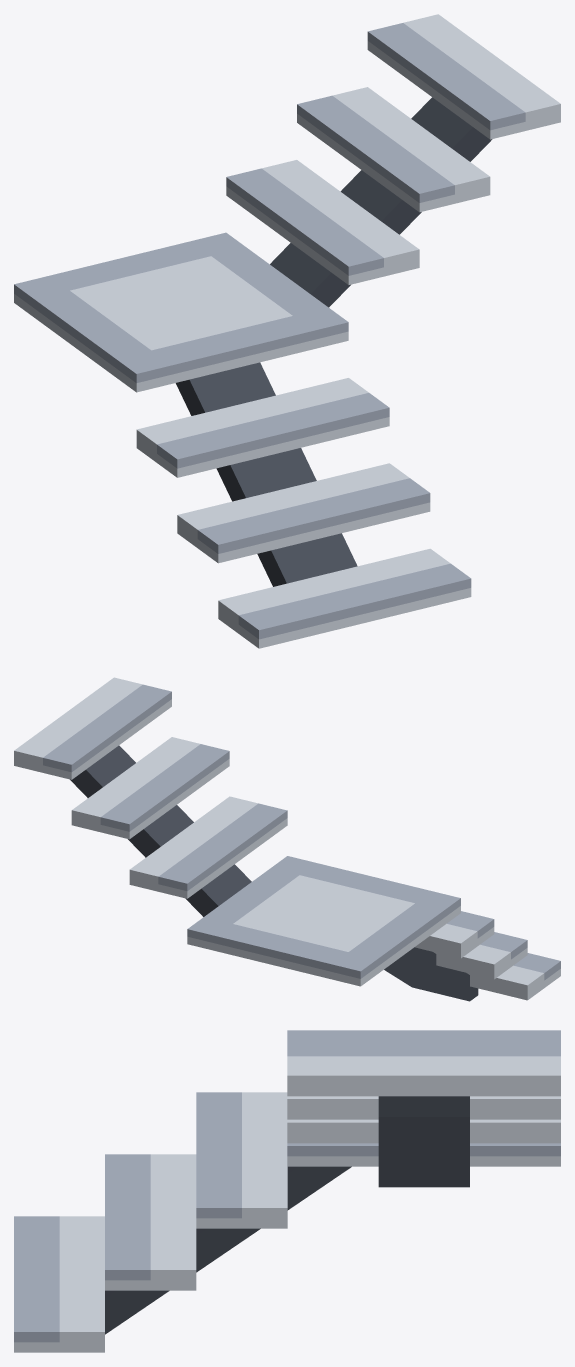
The model's file is stairs_corner.glb.
The picture shows the model from 3 angles, top to bottom: view 1: azimuth 30°, elevation 25°; view 2: azimuth 150°, elevation 25°; view 3: azimuth 270°, elevation 25°; orthographic projection. The views are drawn at different scales.
Visible parts, largest first — view 1: stairs_corner; view 2: stairs_corner; view 3: stairs_corner.
Part boxes in pixels (x1,y1,x2,y2): stairs_corner: (14,14,560,648); stairs_corner: (14,677,560,1001); stairs_corner: (14,1030,560,1352).
Size of the model in its own units: 0.6 by 0.5 by 0.6.
